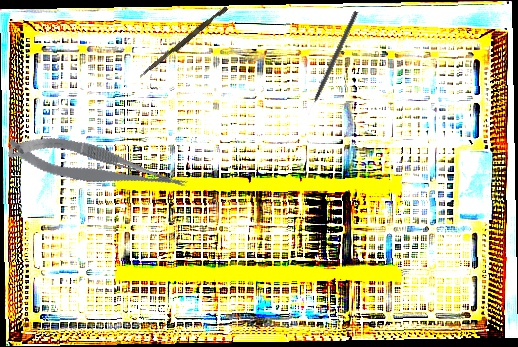Hook Surgical: (305, 10, 359, 116)
Micro Scissor: (3, 120, 191, 214)
Pusher: (138, 4, 229, 81)
